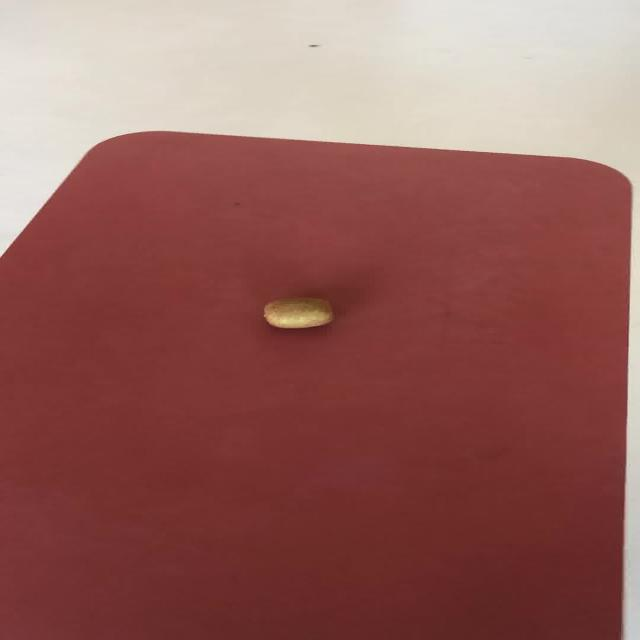kiwi: (262, 296, 332, 328)
